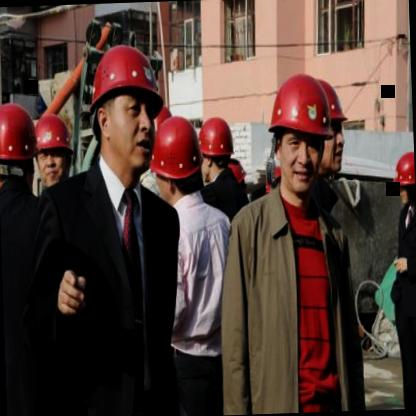helmet: (90, 42, 168, 180), (266, 69, 332, 196), (149, 116, 203, 209), (310, 76, 351, 177), (0, 103, 41, 199), (30, 110, 76, 191), (197, 112, 235, 185), (392, 145, 416, 222)
